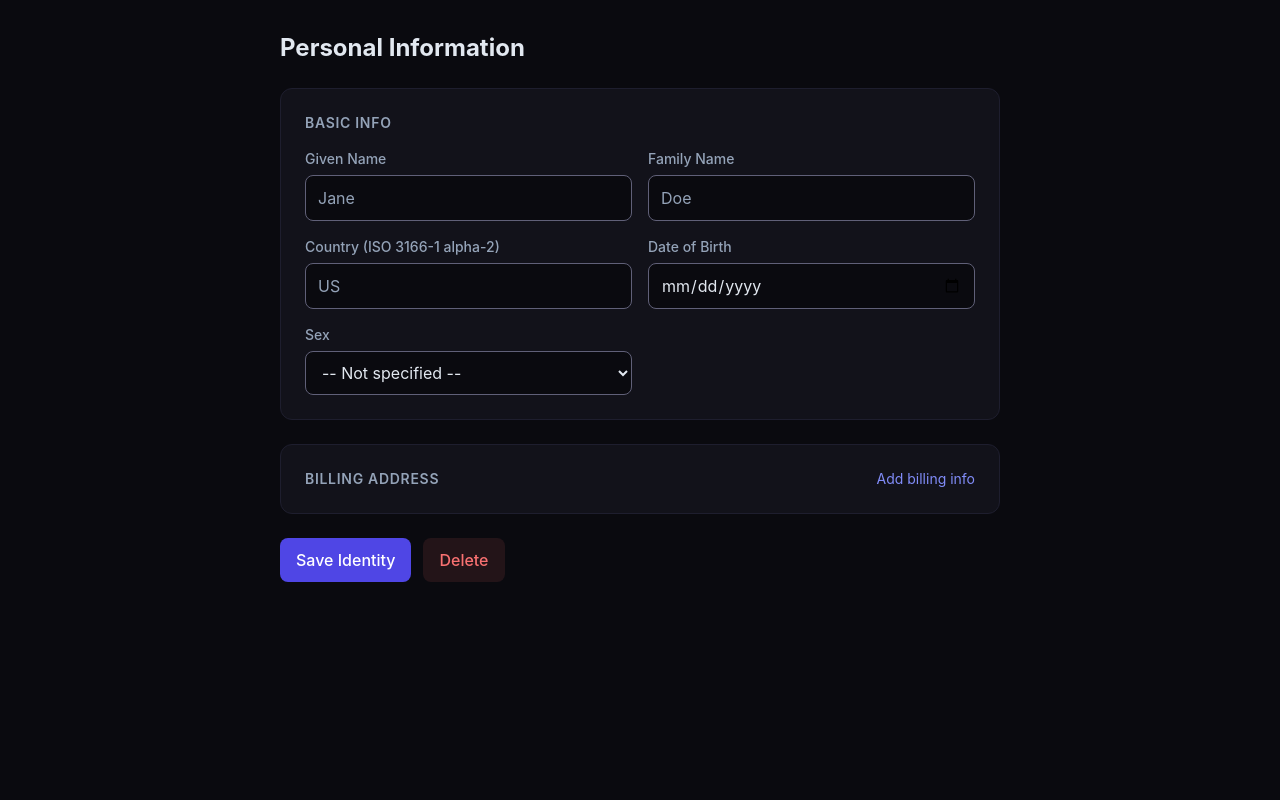
IdentityView › handles delete confirmation flow
# Click the outer Delete button to open confirmation
Click the button "Delete". click: (464, 560)
box: [424,538,505,582]
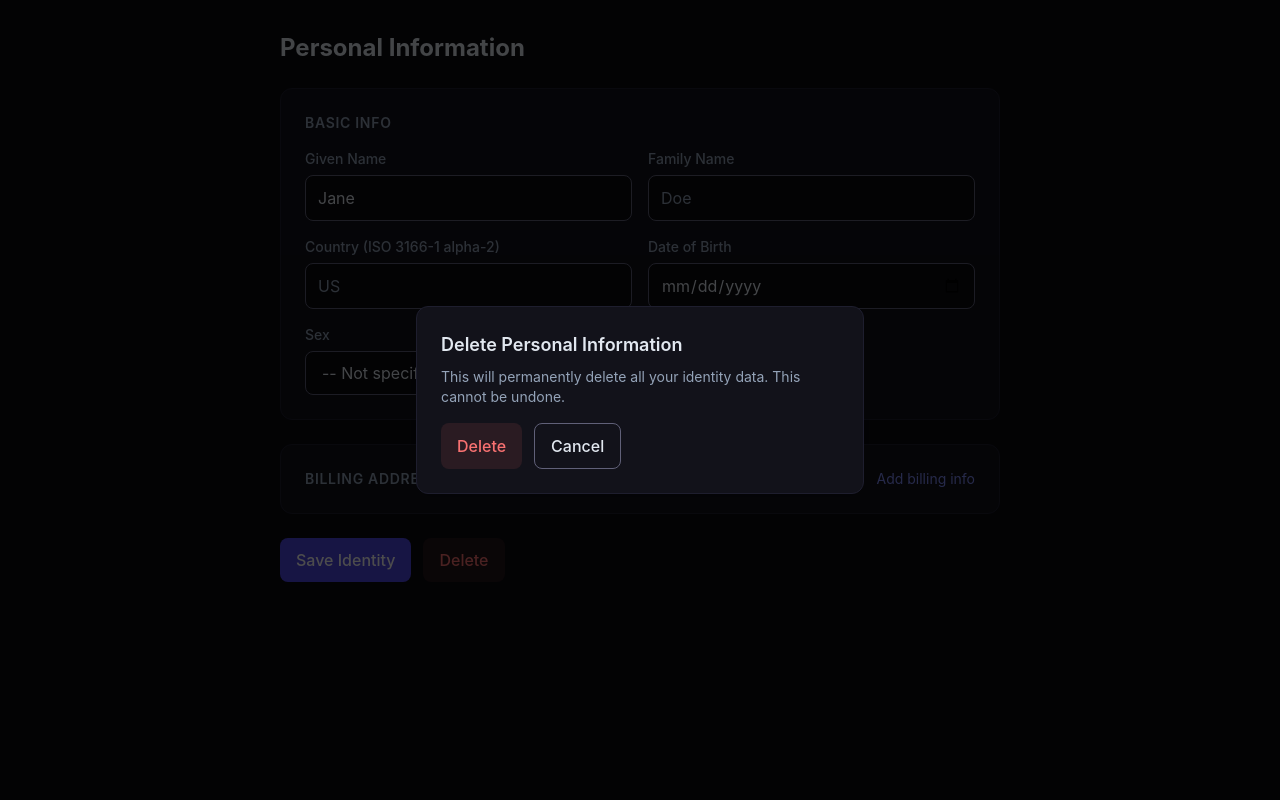
Now the text "Delete Personal Information" is shown, box [441,334,682,355]
